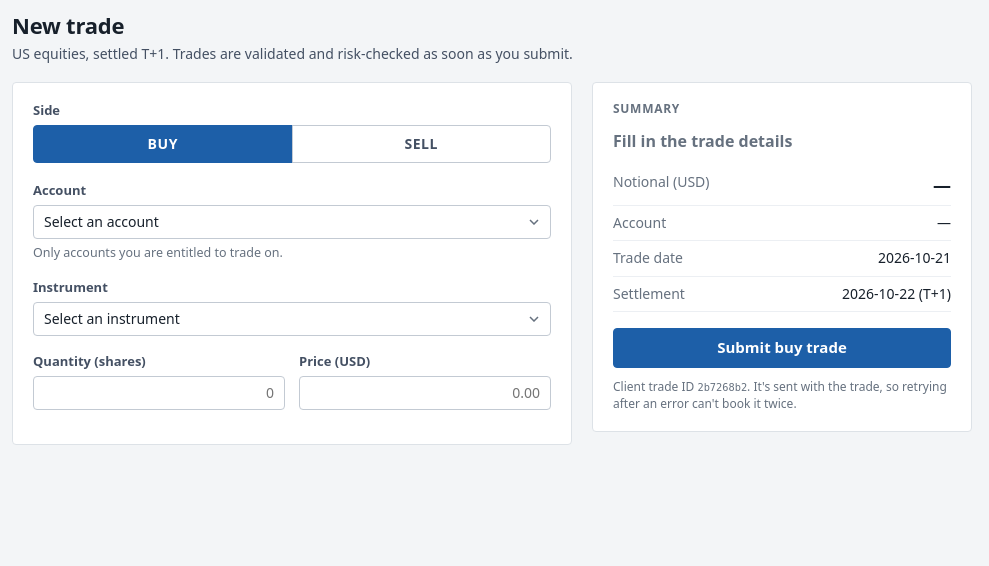
new trade form › shows the server message and field errors when a request is refused
Select "ACC-1001 · Harbor Growth Fund" in the dropdown labelled "Account": (292, 222) [33, 205, 551, 239]
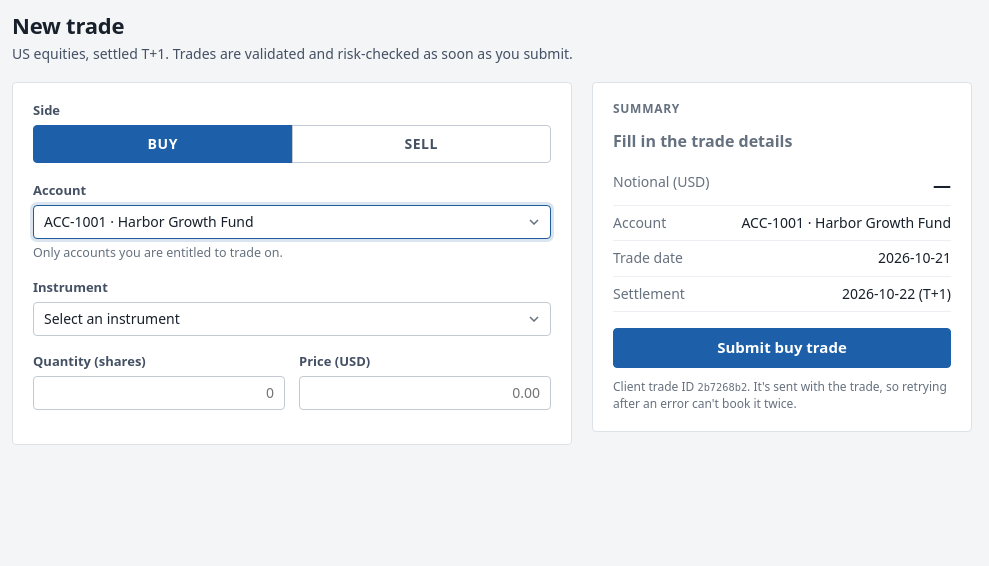
Select "AAPL · Apple Inc." in the dropdown labelled "Instrument": (292, 319) [33, 302, 551, 336]
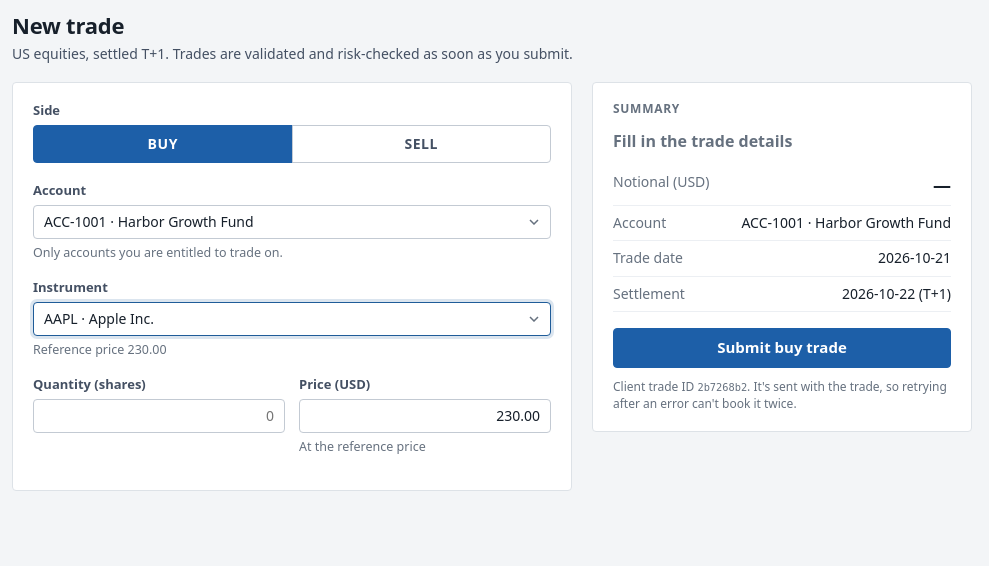
In the field labelled "Quantity (shares)": (159, 416) [33, 399, 285, 433], type "100"
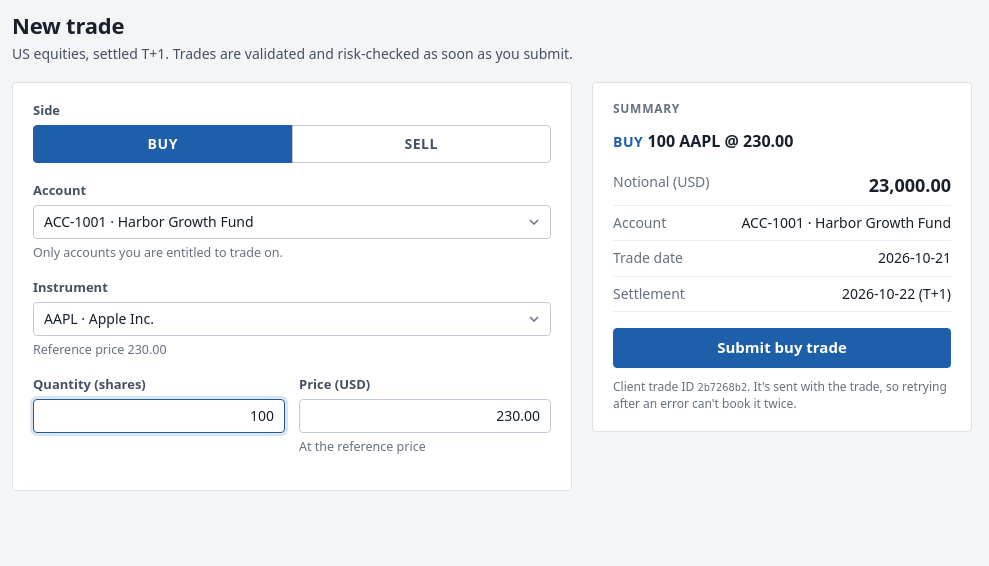
Click the button "Submit buy trade": (782, 348) [613, 328, 951, 368]
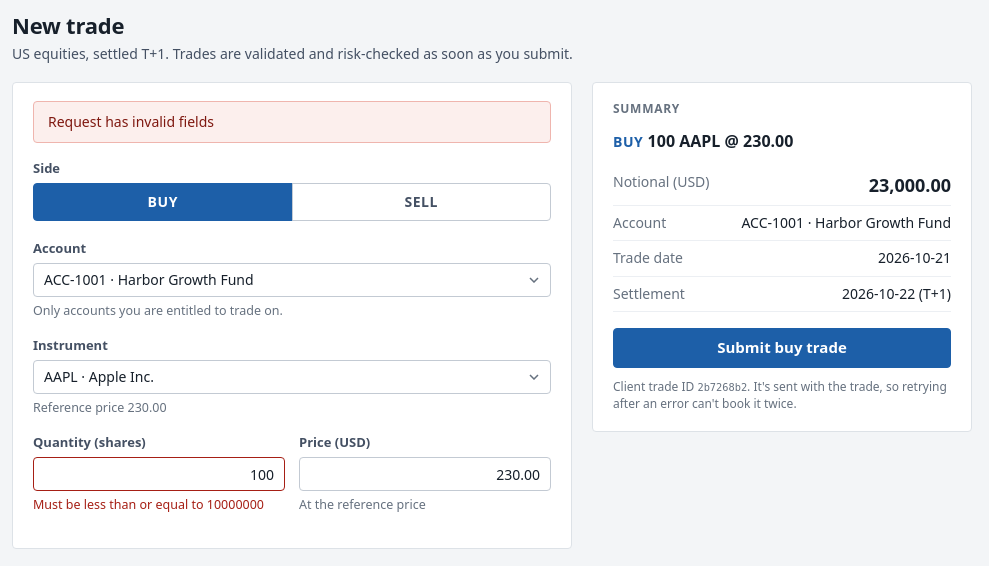
Check: the text "Request has invalid fields" is shown, box [48, 112, 214, 132]
Check: the text "Must be less than or equal to 10000000" is shown, box [33, 496, 285, 514]
